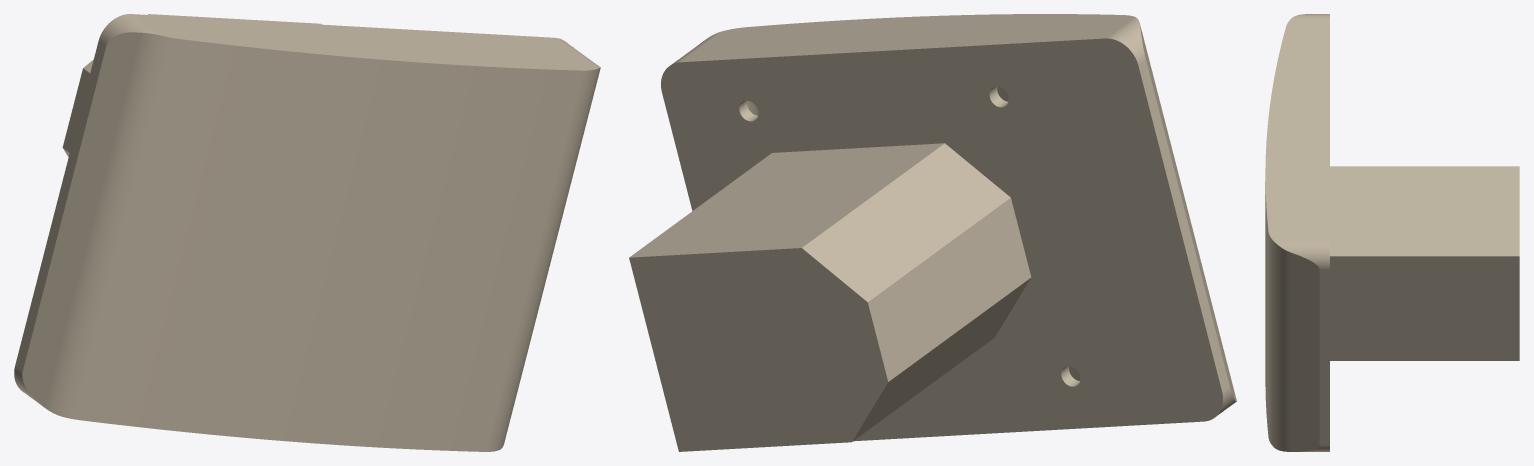
File: POWER ARCHITECTURE__SMARTPLUG INLET SYSTEM__50amp inlet.glb
The picture shows the model from 3 angles, left to right: view 1: azimuth 30°, elevation 25°; view 2: azimuth 150°, elevation 25°; view 3: azimuth 270°, elevation 25°; orthographic projection. The views are drawn at different scales.
Parts seen in each view (by area): view 1: 50amp inlet; view 2: 50amp inlet; view 3: 50amp inlet.
Part boxes in pixels (x1,y1,x2,y2): 50amp inlet: [14, 14, 600, 451]; 50amp inlet: [629, 14, 1236, 451]; 50amp inlet: [1265, 14, 1519, 451].
Bounding box in the file's own units: 0.1339 × 0.1112 × 0.0791.
